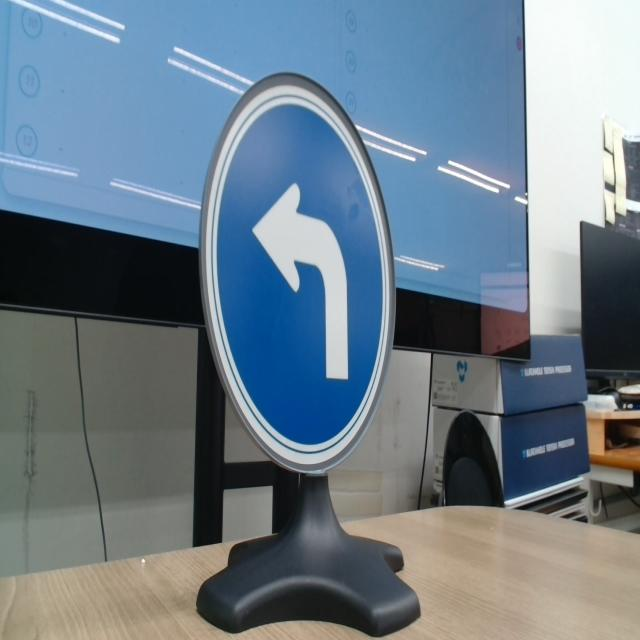left_direction: (194, 47, 412, 488)
